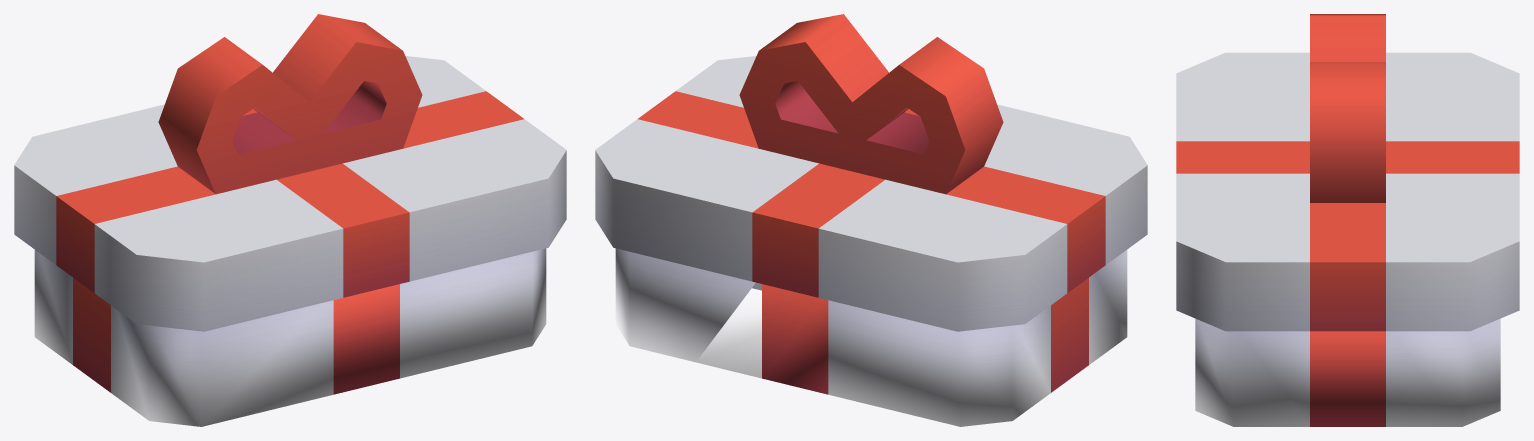
The model's file is present_white_rectangle.glb.
3 views of the same model, side by side, from view 1: azimuth 30°, elevation 25°; view 2: azimuth 150°, elevation 25°; view 3: azimuth 270°, elevation 25° (orthographic).
Visible parts, largest first — view 1: present-a-rectangle; view 2: present-a-rectangle; view 3: present-a-rectangle.
Boxes of the visible parts, x1,y1,x2,y2 form: present-a-rectangle: [14, 14, 566, 426]; present-a-rectangle: [595, 14, 1147, 426]; present-a-rectangle: [1176, 14, 1519, 426].
Size of the model in its own units: 0.65 by 0.4207 by 0.45.
Materials: 1 (1 with a texture image).
